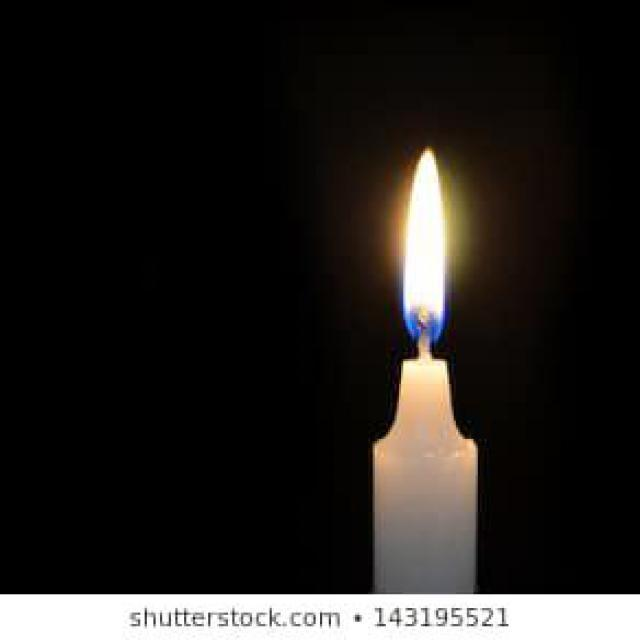Fire: (402, 146, 446, 350)
